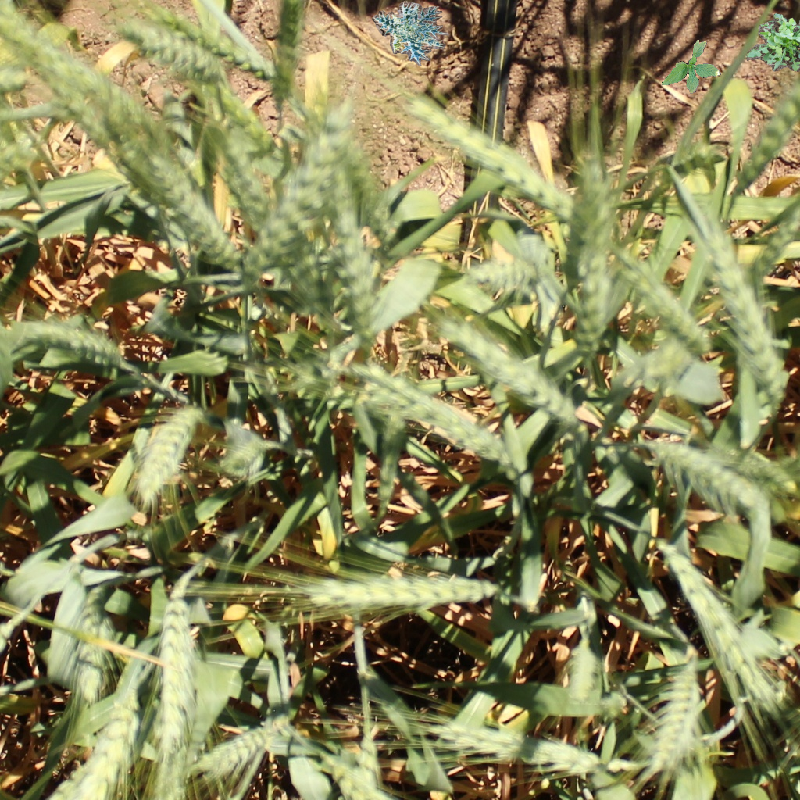spikelet: (20, 33, 164, 225), (659, 540, 770, 717), (421, 102, 578, 226), (353, 371, 515, 474), (705, 232, 794, 418), (437, 318, 578, 425), (147, 156, 237, 280), (649, 434, 784, 510), (297, 567, 504, 616), (153, 4, 278, 85), (52, 695, 146, 799), (316, 123, 397, 242), (331, 173, 382, 350), (150, 590, 204, 755), (565, 179, 613, 359), (237, 183, 321, 285), (623, 254, 707, 355), (126, 400, 206, 504), (119, 13, 229, 84), (644, 658, 708, 770), (193, 711, 293, 781), (5, 320, 128, 376), (455, 738, 610, 778), (68, 590, 120, 697), (374, 1, 445, 59), (215, 415, 273, 484), (467, 253, 544, 299), (281, 350, 342, 403), (561, 635, 604, 706)
weed: (372, 1, 449, 66), (665, 36, 729, 95), (746, 13, 800, 72)
